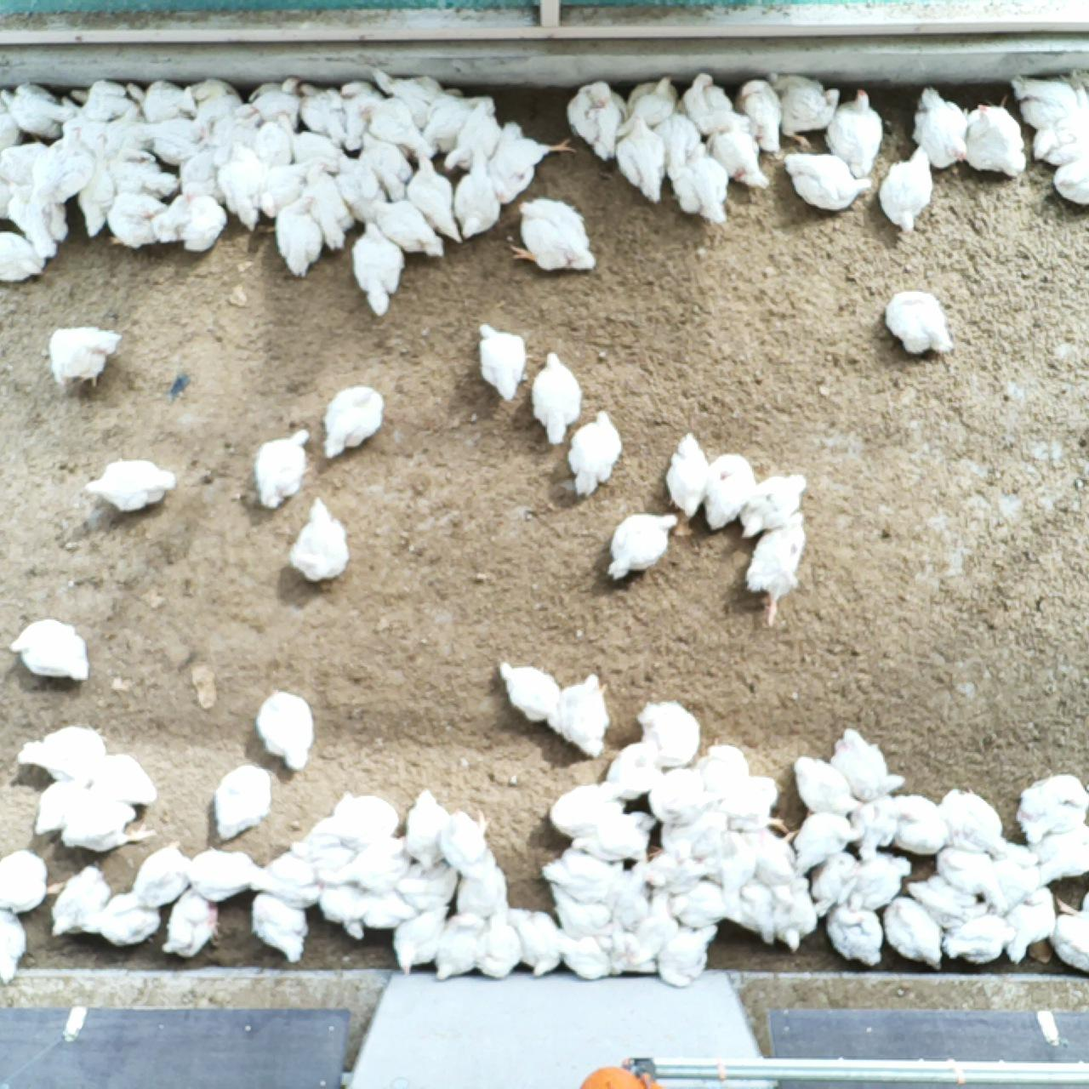chicken: (486, 117, 577, 204), (742, 510, 804, 631), (510, 196, 602, 274), (768, 67, 843, 155), (828, 724, 909, 804), (82, 452, 182, 516), (956, 98, 1033, 180), (58, 789, 155, 852), (824, 83, 884, 182), (784, 149, 874, 214), (15, 724, 109, 786), (879, 143, 940, 238), (705, 111, 776, 192), (549, 670, 612, 761), (733, 468, 808, 544), (351, 218, 408, 317), (289, 497, 351, 588), (605, 506, 678, 583), (10, 618, 96, 683), (880, 286, 956, 359), (874, 896, 945, 974), (442, 98, 510, 179), (369, 195, 445, 267), (610, 113, 668, 207), (251, 425, 313, 512), (252, 687, 314, 774), (403, 151, 461, 244), (332, 147, 393, 235), (301, 161, 358, 255), (26, 123, 91, 205), (564, 406, 620, 501), (569, 77, 630, 164), (1017, 772, 1089, 844), (357, 95, 438, 158), (45, 865, 112, 941), (531, 349, 583, 446), (368, 69, 449, 131), (546, 780, 629, 840), (606, 72, 680, 139), (450, 150, 502, 245), (539, 845, 624, 903), (669, 140, 729, 222), (935, 787, 1008, 854), (81, 888, 161, 949), (729, 81, 789, 162), (1007, 66, 1089, 125), (897, 875, 990, 927), (212, 762, 273, 841), (323, 383, 387, 458), (310, 792, 402, 844), (567, 808, 655, 862), (47, 324, 121, 388), (428, 905, 489, 981), (127, 839, 193, 909), (353, 128, 416, 201), (819, 898, 885, 967), (492, 659, 562, 724), (792, 752, 862, 817), (636, 697, 700, 768), (910, 88, 968, 166), (251, 889, 311, 964), (161, 886, 221, 961), (0, 847, 65, 916), (75, 131, 116, 240), (388, 905, 450, 977), (218, 138, 264, 234), (660, 800, 735, 858), (251, 850, 322, 911), (0, 83, 74, 141), (182, 848, 260, 903), (656, 925, 723, 989), (435, 803, 492, 878), (274, 114, 349, 171), (274, 195, 322, 284), (722, 773, 792, 834), (759, 876, 815, 952), (652, 100, 702, 185), (1005, 888, 1059, 966), (289, 80, 349, 150), (844, 850, 915, 909), (597, 738, 663, 801), (477, 323, 529, 402), (1025, 826, 1089, 890), (507, 903, 563, 976), (791, 816, 864, 872), (332, 78, 385, 155), (101, 146, 178, 199), (699, 454, 750, 534), (877, 791, 946, 850), (663, 429, 708, 518), (931, 843, 1002, 899), (678, 70, 739, 135), (985, 850, 1045, 916), (542, 879, 613, 934), (842, 788, 901, 854), (470, 908, 523, 981), (3, 181, 53, 258), (452, 856, 514, 918), (631, 891, 680, 968), (256, 160, 314, 224), (402, 789, 448, 869), (423, 92, 479, 157), (104, 197, 169, 253), (629, 848, 703, 897), (142, 113, 209, 167), (697, 825, 750, 893), (90, 752, 158, 805), (697, 746, 753, 809), (939, 921, 1017, 966), (666, 878, 732, 931), (647, 764, 709, 820), (351, 837, 412, 893), (192, 94, 264, 140), (805, 854, 860, 914), (29, 778, 87, 834), (1052, 893, 1089, 980), (313, 879, 364, 942), (178, 192, 230, 253), (71, 79, 137, 127), (127, 79, 193, 126), (729, 878, 775, 945), (740, 827, 795, 882), (554, 935, 617, 982), (71, 115, 146, 154), (0, 229, 52, 284), (290, 841, 353, 886), (250, 72, 301, 127), (353, 887, 418, 930), (1028, 123, 1089, 168), (602, 928, 658, 976), (610, 867, 652, 930), (403, 860, 455, 907), (212, 123, 265, 169), (180, 142, 221, 200), (148, 192, 192, 245), (0, 909, 30, 982), (182, 78, 244, 108), (258, 111, 293, 163), (1050, 162, 1089, 208), (0, 143, 40, 181), (44, 188, 71, 243)
